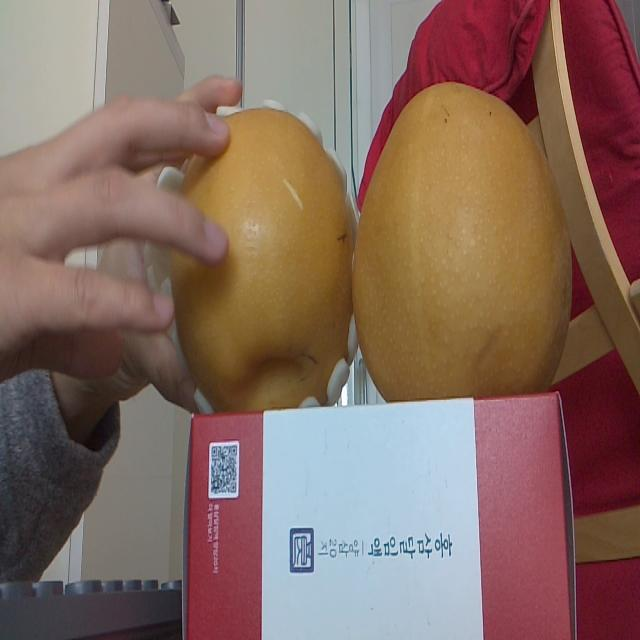pear: (351, 78, 572, 396), (171, 107, 361, 409)
